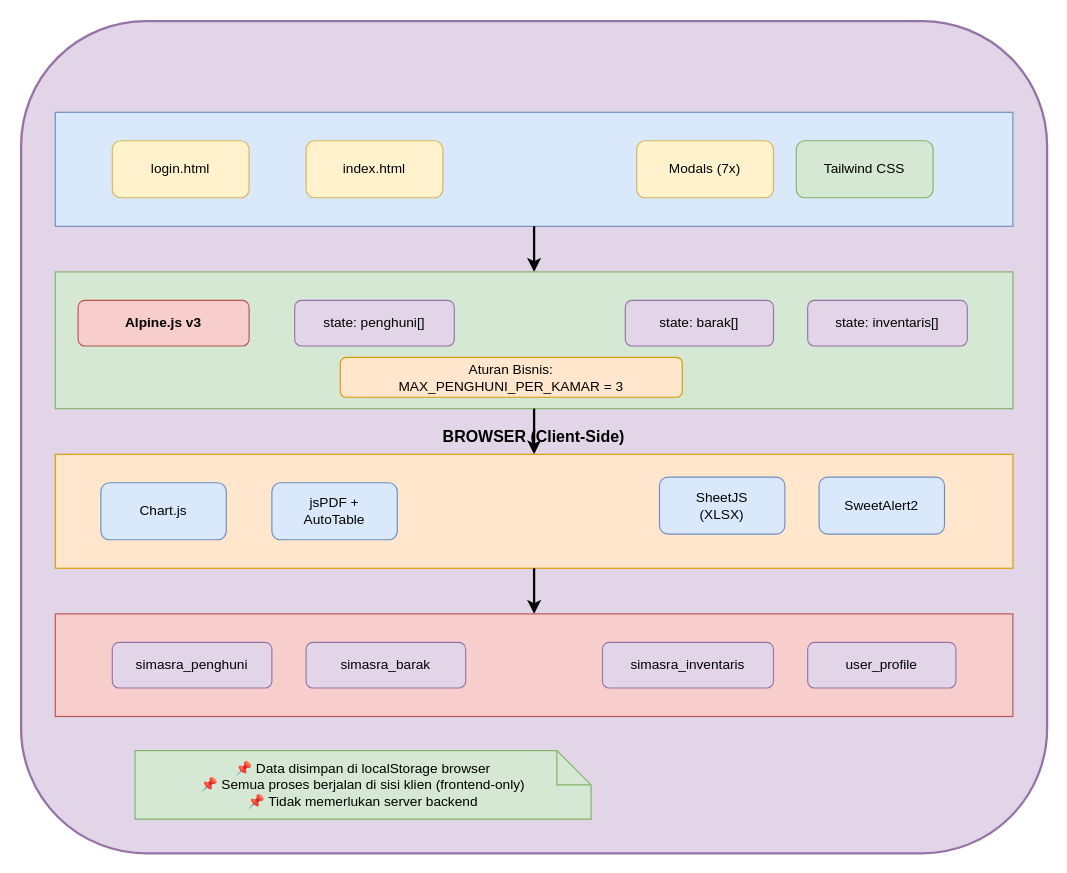
The diagram is 1067 pixels wide and 873 high, and some of its shapes have lost their labels. Each missing label, with the box of its shape:
PRESENTATION LAYER: (54, 111, 1013, 226)
STATE & LOGIC LAYER: (54, 271, 1013, 409)
STORAGE LAYER: (54, 613, 1013, 716)
VISUALIZATION & EXPORT LAYER: (54, 453, 1013, 568)
